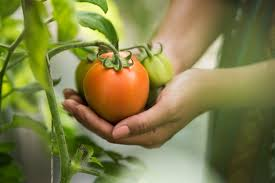tomato: (84, 52, 149, 119)
